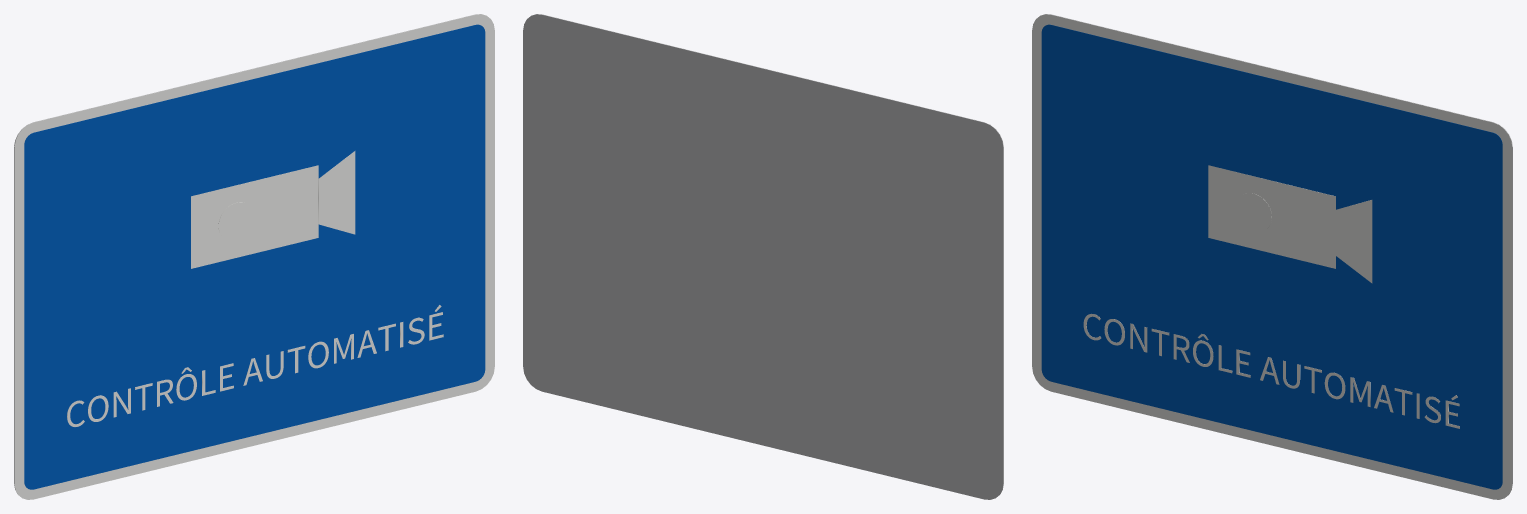
3 views of the same model, side by side, from view 1: azimuth 30°, elevation 25°; view 2: azimuth 150°, elevation 25°; view 3: azimuth 330°, elevation 25° (orthographic).
Parts seen in each view (by area): view 1: SR3_r01, SR3_r00, SR3_p02, SR3_txt05, SR3_p03, SR3_d04, SR3_dos; view 2: SR3_dos; view 3: SR3_r01, SR3_r00, SR3_p02, SR3_txt05, SR3_p03, SR3_d04, SR3_dos.
Part boxes in pixels (<box>): SR3_r01: <box>24,24,485,489</box>; SR3_r00: <box>14,14,494,499</box>; SR3_p02: <box>191,165,318,268</box>; SR3_txt05: <box>67,305,443,426</box>; SR3_p03: <box>318,151,355,234</box>; SR3_d04: <box>218,202,254,241</box>; SR3_dos: <box>14,14,483,493</box>; SR3_dos: <box>523,14,1003,499</box>; SR3_r01: <box>1041,24,1502,489</box>; SR3_r00: <box>1032,14,1512,499</box>; SR3_p02: <box>1208,165,1335,268</box>; SR3_txt05: <box>1083,314,1459,428</box>; SR3_p03: <box>1335,200,1372,283</box>; SR3_d04: <box>1235,193,1271,232</box>; SR3_dos: <box>1043,14,1512,493</box>.
Bounding box in the file's own units: 1 × 0.75 × 0.0037.
